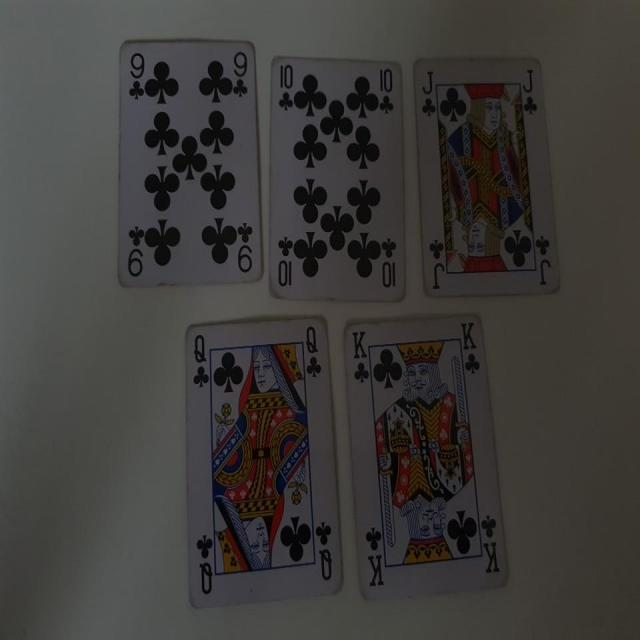10 of clubs: (265, 57, 409, 303)
9 of clubs: (117, 38, 264, 289)
jack of clubs: (413, 57, 561, 299)
king of clubs: (342, 313, 512, 600)
queen of clubs: (184, 314, 347, 606)
